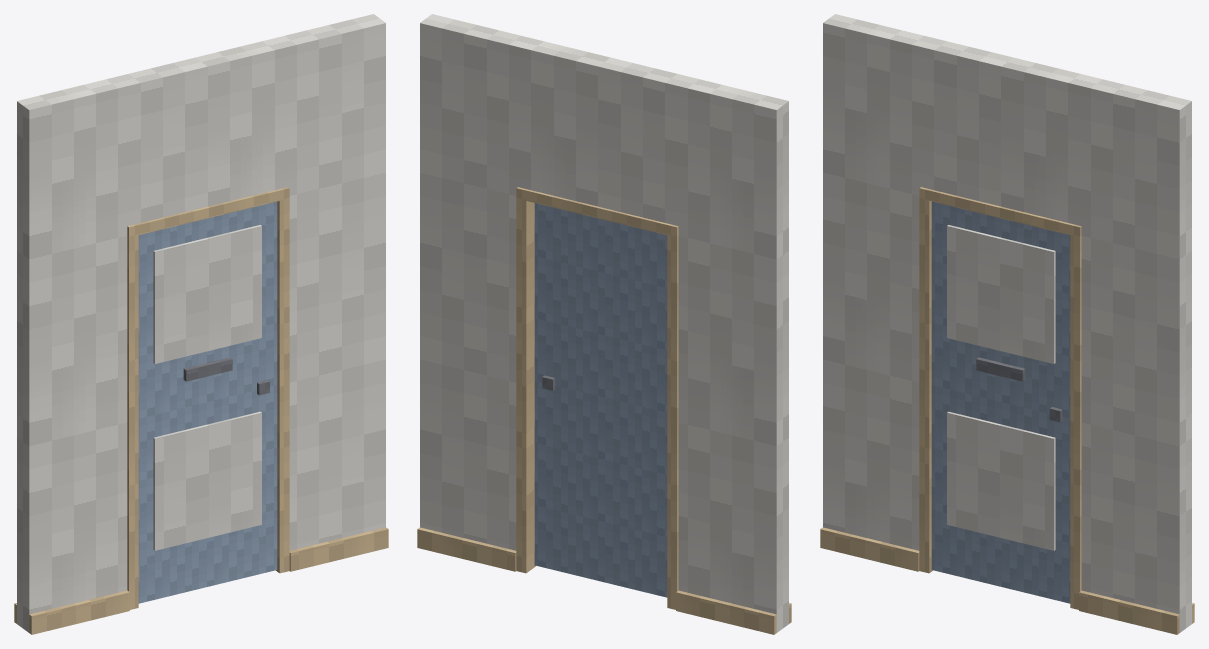
File: pixel-modern-apartments-wall-bay-door-17af5352__29789.glb
The picture shows the model from 3 angles, left to right: view 1: azimuth 30°, elevation 25°; view 2: azimuth 150°, elevation 25°; view 3: azimuth 330°, elevation 25°; orthographic projection.
Parts seen in each view (by area): view 1: wall-bay-door, door/slate, door/white, door/charcoal; view 2: wall-bay-door, door/slate; view 3: wall-bay-door, door/slate, door/white, door/charcoal.
Boxes of the visible parts, bbox=[...] form: wall-bay-door: bbox=[14, 14, 388, 634]; door/slate: bbox=[138, 201, 277, 603]; door/white: bbox=[153, 225, 261, 550]; door/charcoal: bbox=[183, 357, 269, 395]; wall-bay-door: bbox=[417, 14, 791, 634]; door/slate: bbox=[534, 203, 667, 597]; wall-bay-door: bbox=[820, 14, 1194, 634]; door/slate: bbox=[931, 201, 1070, 603]; door/white: bbox=[947, 225, 1055, 550]; door/charcoal: bbox=[976, 357, 1062, 422].
Bounding box in the file's own units: 2 × 2.8 × 0.1699.
Materials: 4 (4 with a texture image).
